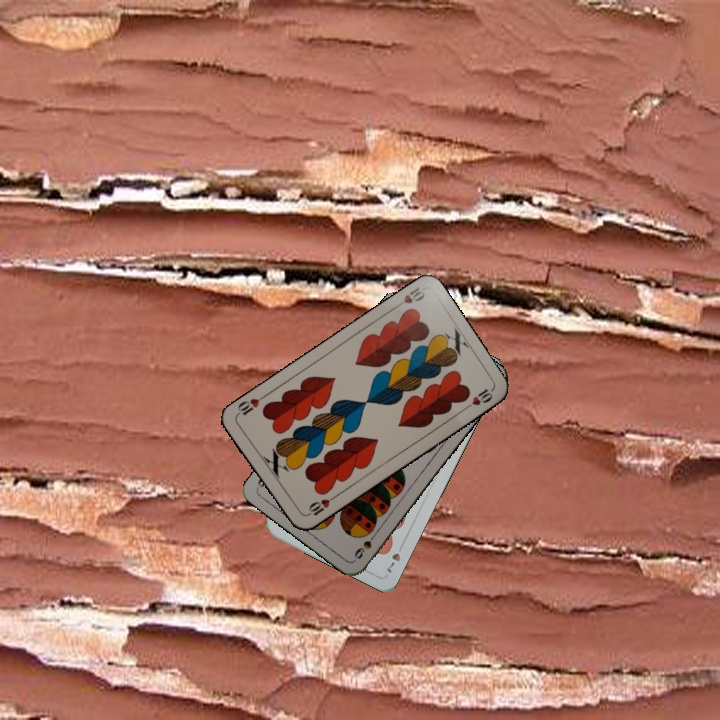H10: (390, 283, 428, 311), (302, 492, 338, 519)
H7: (382, 539, 407, 576)
S9: (350, 527, 380, 562)
